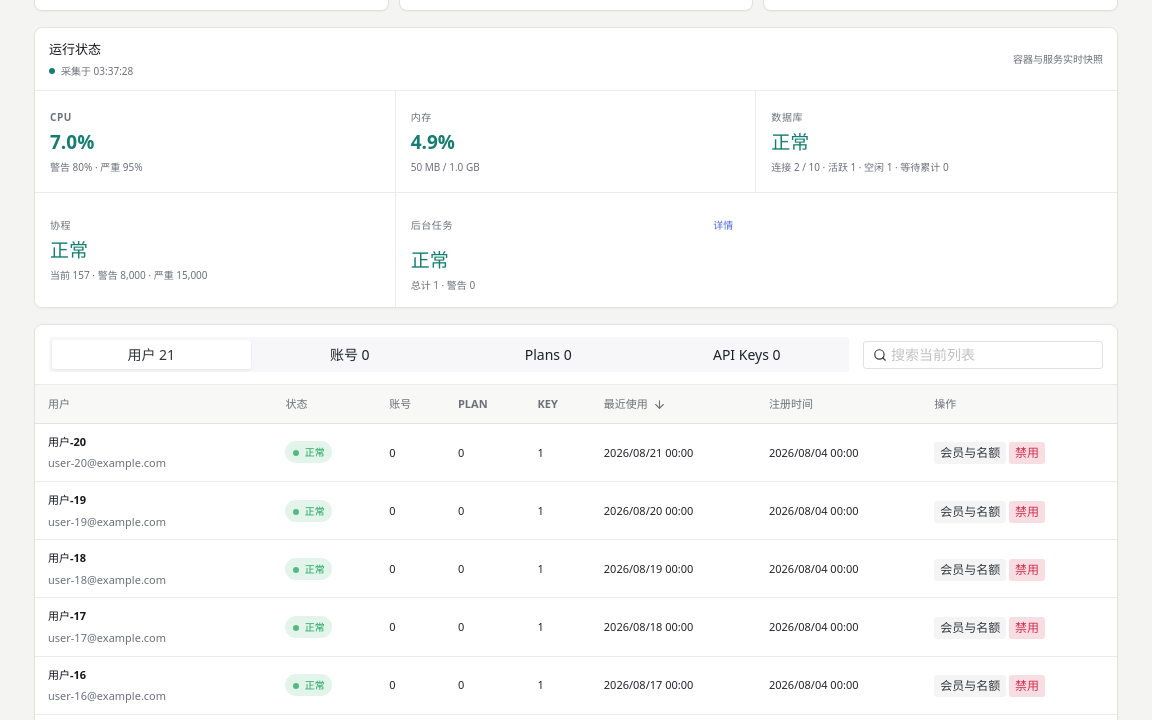
Test: AdminView › paginates the resource list and sorts users by recent usage
(page scrolled)
Check: the row that starts with "用户-20" is shown, box [48, 434, 86, 449]
Click the button with class "admin-sort-button": x=635, y=404 [604, 386, 666, 422]
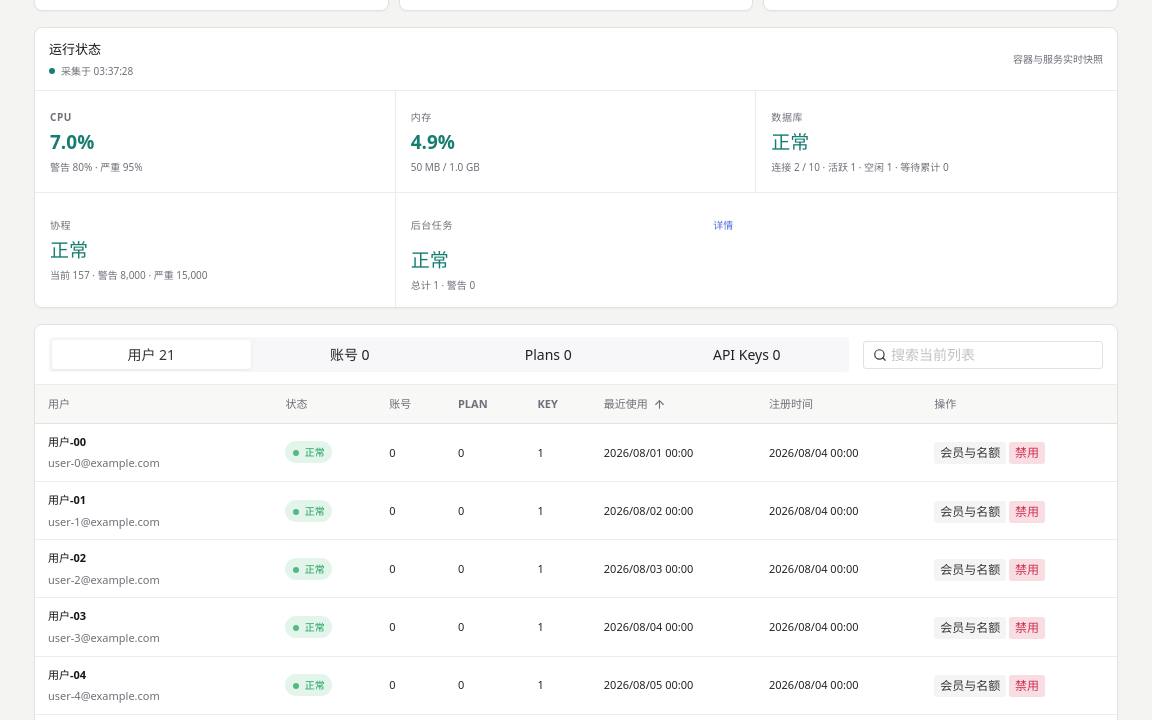
Check: the row that starts with "用户-00" is shown, box [48, 434, 86, 449]
